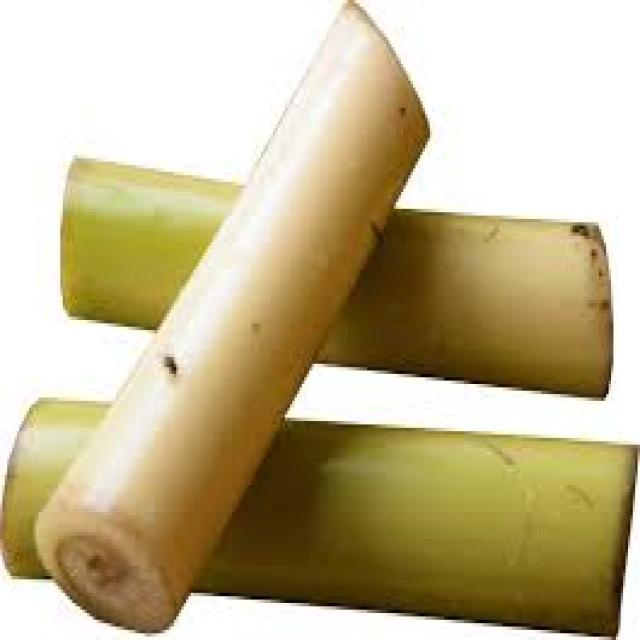organic waste: (31, 0, 428, 627), (0, 394, 638, 637), (58, 155, 611, 397)
